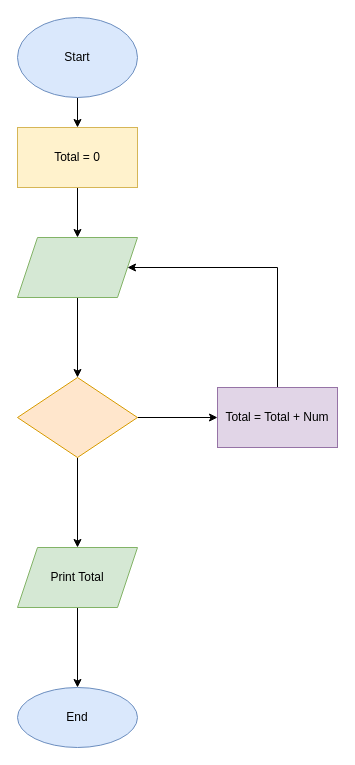
Some shapes in this 355 by 765 pixel diagram are drawn without their labels. Each missing label, with the box of its shape:
Num = 99: (16, 376, 138, 458)
Read Num: (16, 236, 138, 298)
